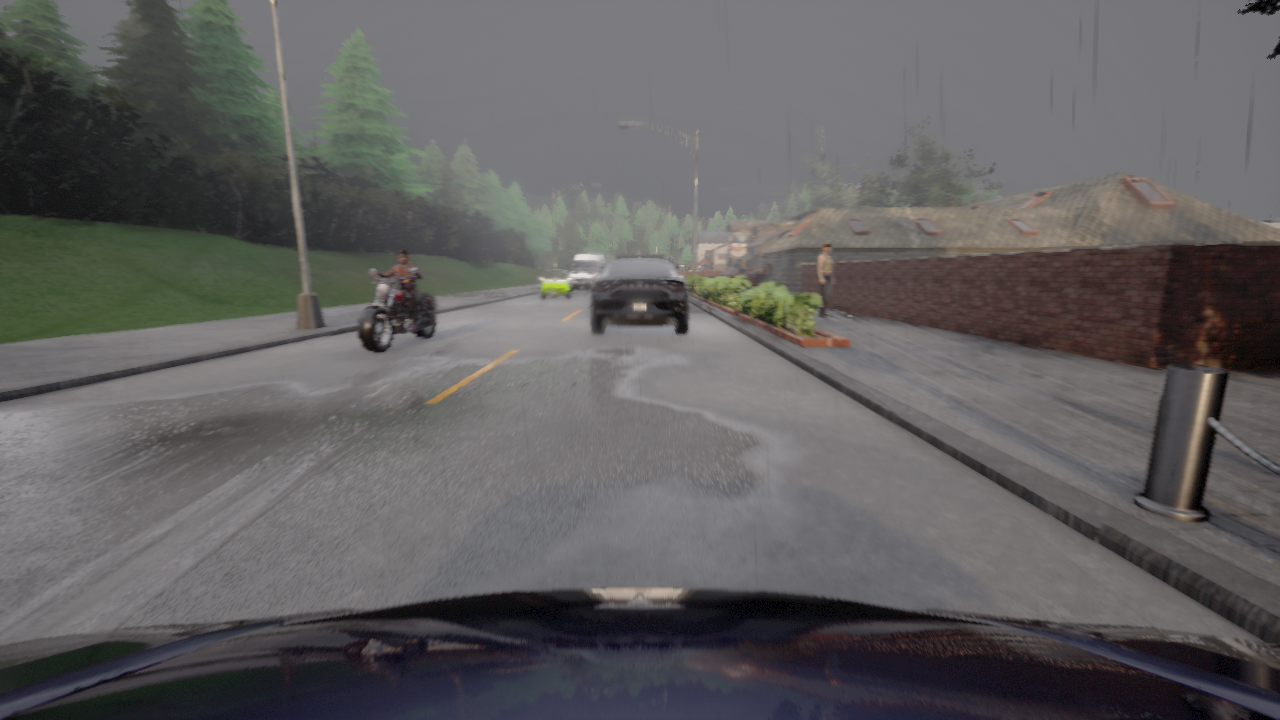cyclist: (0, 588, 1279, 719), (591, 253, 688, 334), (358, 268, 437, 352), (568, 254, 605, 291), (708, 269, 761, 287), (540, 270, 571, 298)
pedestrian: (818, 243, 833, 317)
